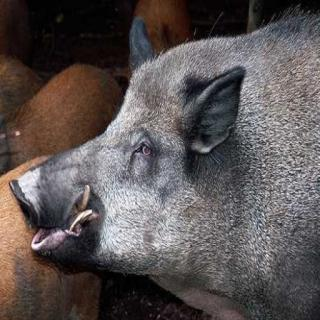Pig: (20, 8, 320, 318)
